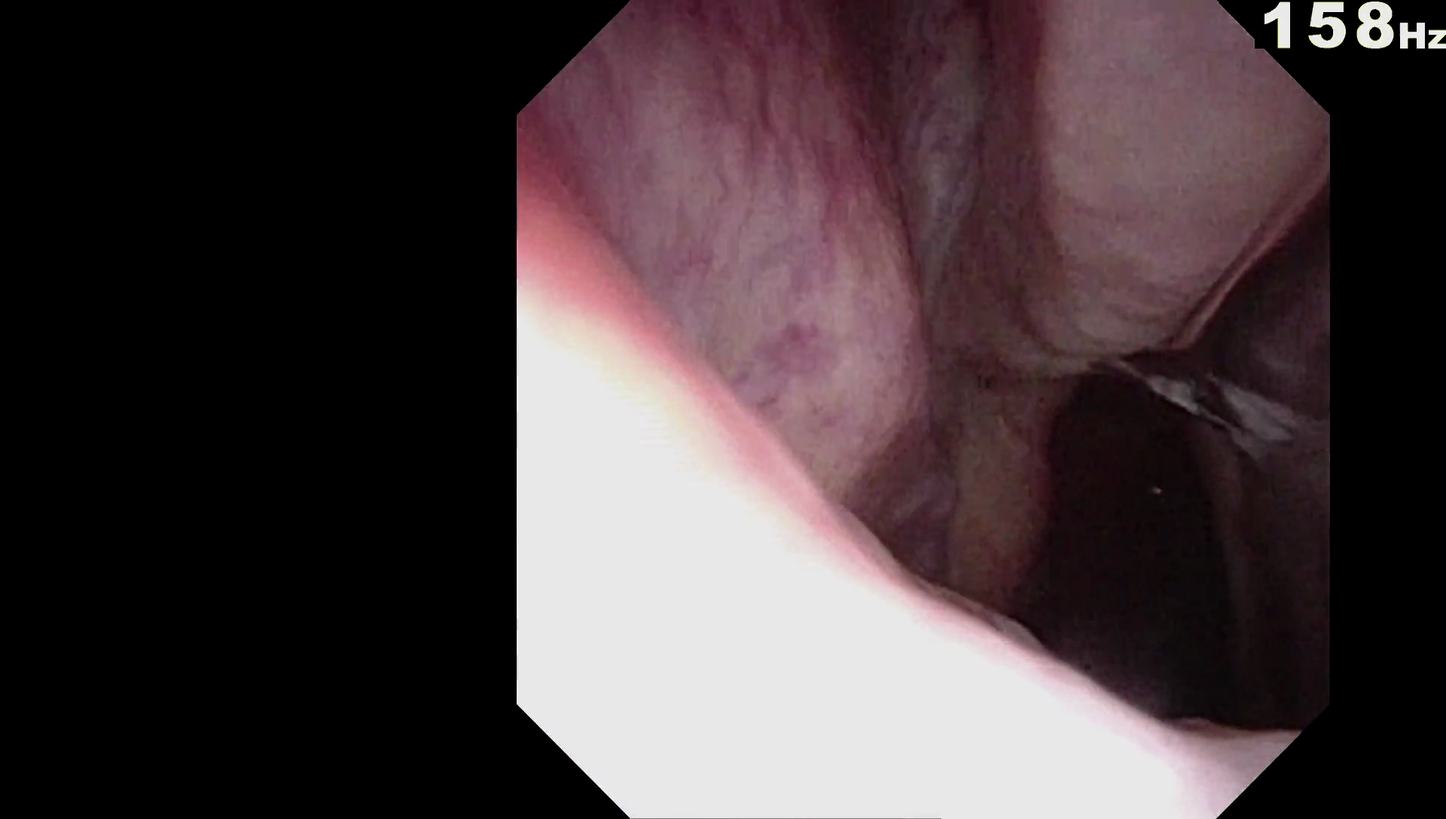close_wall: (581, 303, 1168, 738)
next: (1005, 336, 1290, 750)
